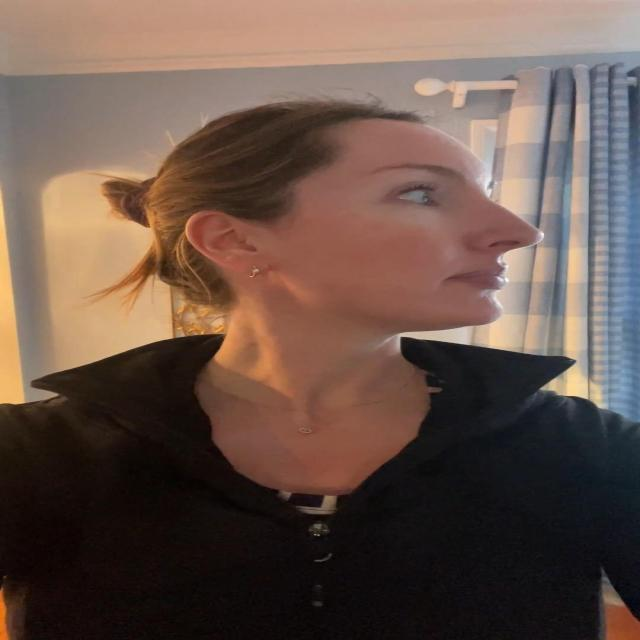NO-Mask: (218, 115, 544, 338)
